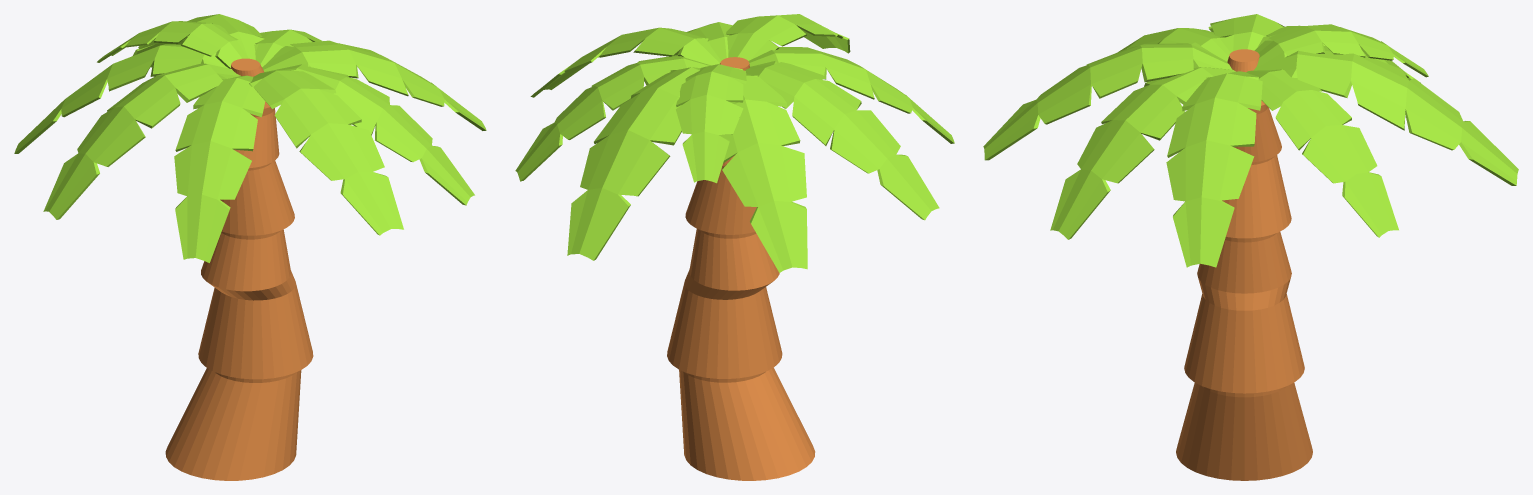
Rendered from palm tree SMOL.fbx.
The picture shows the model from 3 angles, left to right: view 1: azimuth 30°, elevation 25°; view 2: azimuth 150°, elevation 25°; view 3: azimuth 270°, elevation 25°; orthographic projection. The views are drawn at different scales.
Visible parts, largest first — view 1: Plane.001, Cylinder; view 2: Plane.001, Cylinder; view 3: Plane.001, Cylinder.
Boxes of the visible parts, x1=… form: Plane.001: x1=14, y1=14, x2=486, y2=262; Cylinder: x1=165, y1=58, x2=313, y2=480; Plane.001: x1=515, y1=14, x2=954, y2=272; Cylinder: x1=667, y1=57, x2=815, y2=480; Plane.001: x1=983, y1=14, x2=1518, y2=267; Cylinder: x1=1176, y1=49, x2=1312, y2=480.
Bounding box in the file's own units: 730 × 681 × 781.
